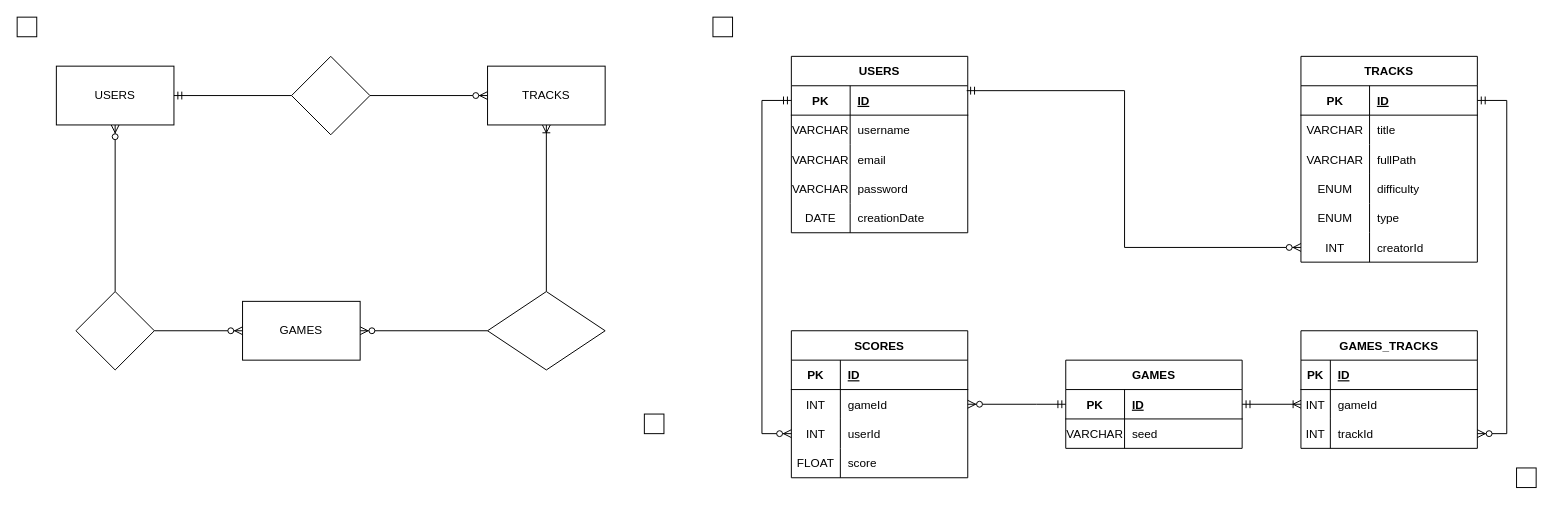
The diagram is 1553 pixels wide and 505 high, and some of its shapes have lost their labels. Each missing label, with the centre of its shape:
"ADDS" goes at point 330,95.
"CONTAINS" goes at point 546,330.
"PLAYS" goes at point 114,330.
